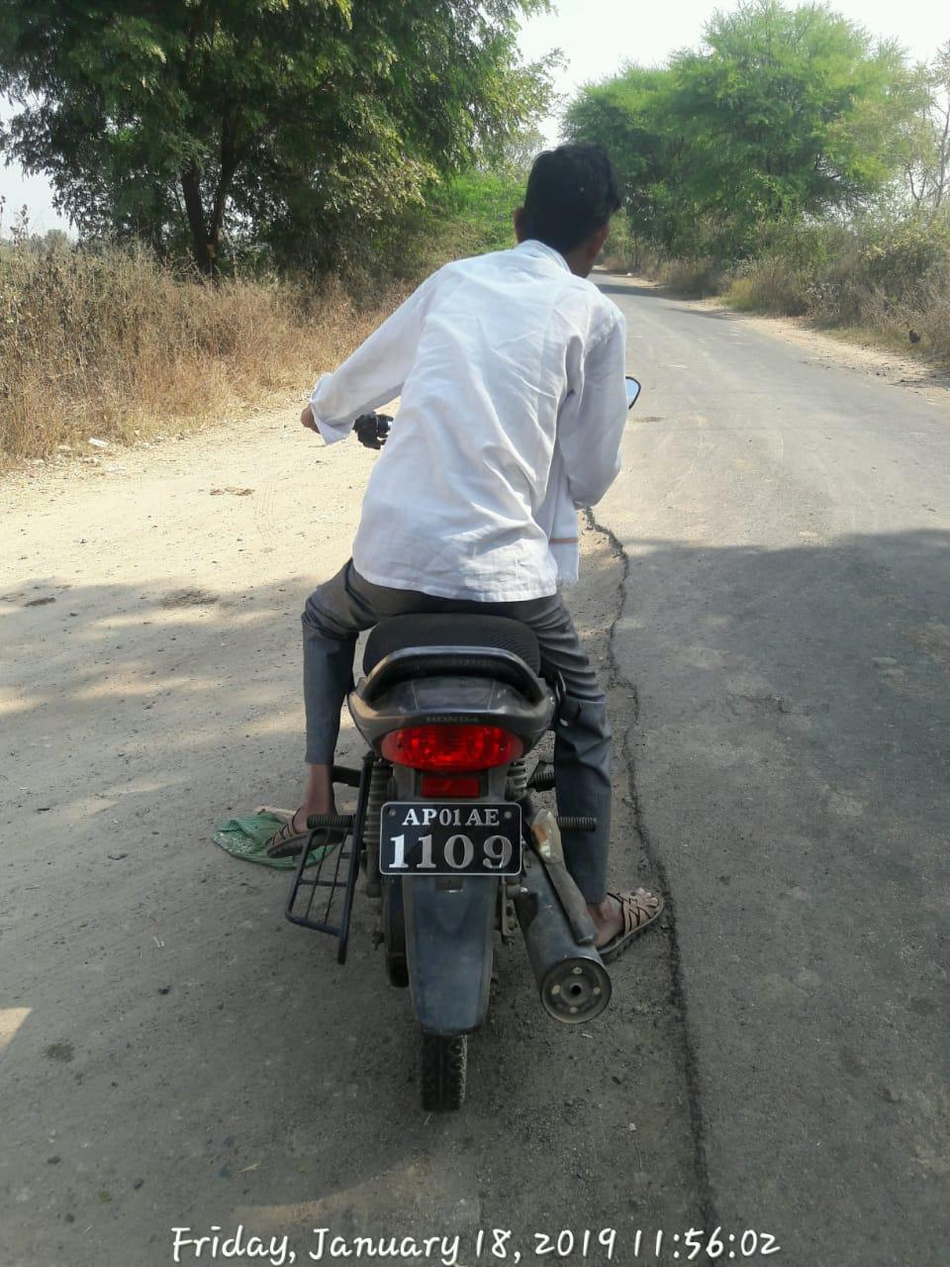plate: (375, 790, 530, 881)
